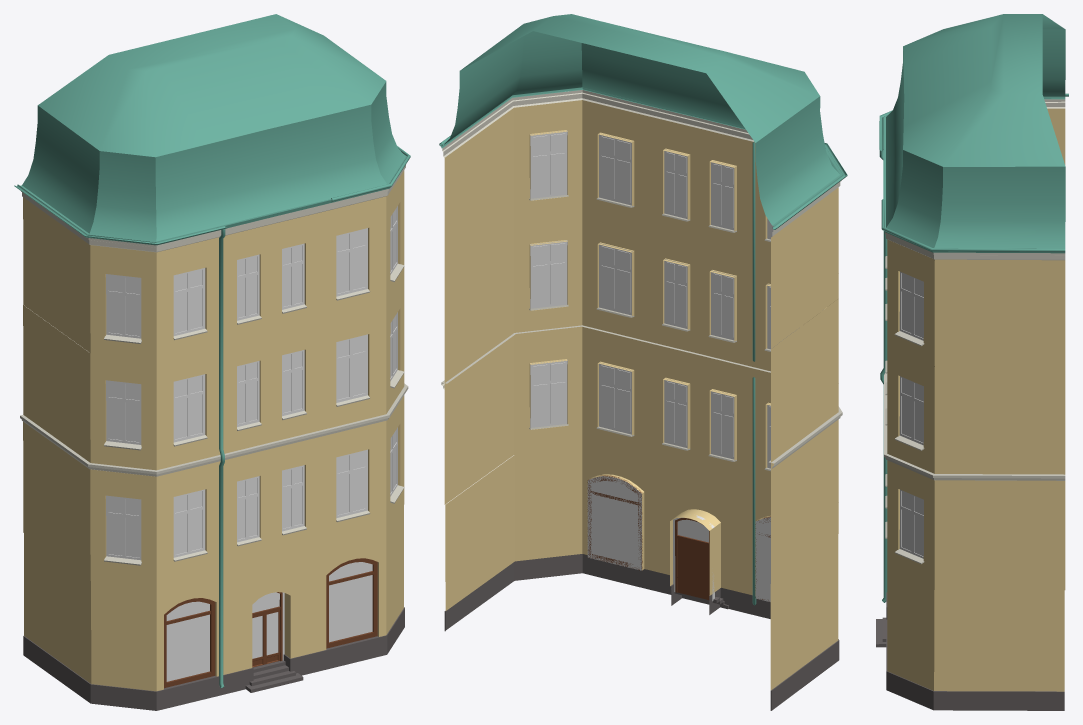
Rendered from house1_2.fbx.
The picture shows the model from 3 angles, left to right: view 1: azimuth 30°, elevation 25°; view 2: azimuth 150°, elevation 25°; view 3: azimuth 270°, elevation 25°; orthographic projection. The views are drawn at different scales.
Parts seen in each view (by area): view 1: Unity_Export_Mesh; view 2: Unity_Export_Mesh; view 3: Unity_Export_Mesh.
Part boxes in pixels (left/top/right/bottom): Unity_Export_Mesh: left=14, top=14, right=410, bottom=710; Unity_Export_Mesh: left=439, top=14, right=847, bottom=710; Unity_Export_Mesh: left=876, top=14, right=1068, bottom=710.
Size of the model in its own units: 217 by 373 by 112.
